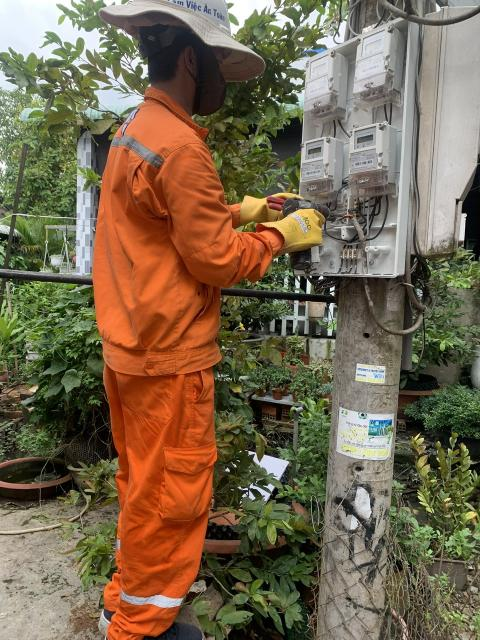gloves: (256, 210, 330, 273), (238, 182, 332, 228)
helmet: (90, 0, 282, 80)
shoes: (93, 596, 203, 622), (97, 624, 223, 640)
